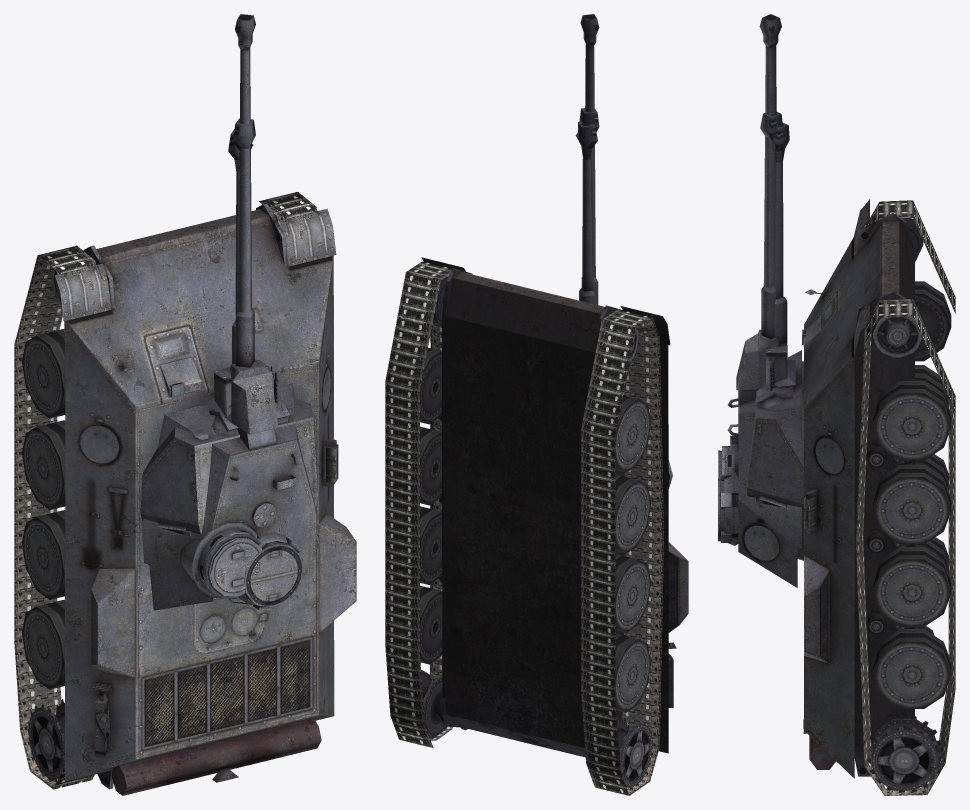
3 renders of one model, left to right at view 1: azimuth 30°, elevation 25°; view 2: azimuth 150°, elevation 25°; view 3: azimuth 270°, elevation 25°, orthographic. The views are drawn at different scales.
Parts seen in each view (by area): view 1: hull, turret_02, turret_01, chassis_track_L, gun_02, gun_03, chassis_wheel_L_04, chassis_wheel_L_06, chassis_wheel_L_02, chassis_wheel_L_08, chassis_wheel_L_09, gun_01 (+1 smaller); view 2: hull, chassis_track_L, chassis_track_R, chassis_wheel_L_06, chassis_wheel_L_04, chassis_wheel_L_08, chassis_wheel_L_02, gun_01, chassis_wheel_L_09, chassis_wheel_R_08, gun_03, chassis_wheel_R_06 (+4 smaller); view 3: hull, chassis_track_R, turret_02, turret_01, chassis_wheel_R_02, chassis_wheel_R_04, chassis_wheel_R_08, chassis_wheel_R_06, chassis_wheel_R_09, gun_01, gun_02, gun_03 (+4 smaller).
Boxes of the visible parts, x1,y1,x2,y2 form: hull: (55,203,356,795); turret_02: (142,372,317,610); turret_01: (140,398,319,610); chassis_track_L: (14,245,96,789); gun_02: (204,118,278,434); gun_03: (235,14,255,312); chassis_wheel_L_04: (22,420,65,509); chassis_wheel_L_06: (21,510,65,599); chassis_wheel_L_02: (21,329,65,418); chassis_wheel_L_08: (21,599,64,689); chassis_wheel_L_09: (27,699,64,782); gun_01: (209,129,289,431); hull: (421,257,688,757); chassis_track_L: (581,309,663,795); chassis_track_R: (385,261,452,747); chassis_wheel_L_06: (615,554,651,633); chassis_wheel_L_04: (615,474,651,553); chassis_wheel_L_08: (615,633,651,712); chassis_wheel_L_02: (615,395,651,472); gun_01: (575,121,597,304); chassis_wheel_L_09: (596,715,653,789); chassis_wheel_R_08: (420,585,442,664); gun_03: (580,14,599,277); chassis_wheel_R_06: (420,506,442,584); hull: (802,199,914,778); chassis_track_R: (856,299,955,795); turret_02: (718,350,801,587); turret_01: (718,361,803,560); chassis_wheel_R_02: (873,380,951,460); chassis_wheel_R_04: (873,464,951,544); chassis_wheel_R_08: (873,629,951,708); chassis_wheel_R_06: (873,547,951,626); chassis_wheel_R_09: (867,715,941,792); gun_01: (756,122,793,403); gun_02: (736,112,795,390); gun_03: (759,14,781,288).
Bounding box in the file's own units: 3.25 × 8.94 × 2.68.
2 materials, 2 textured.
